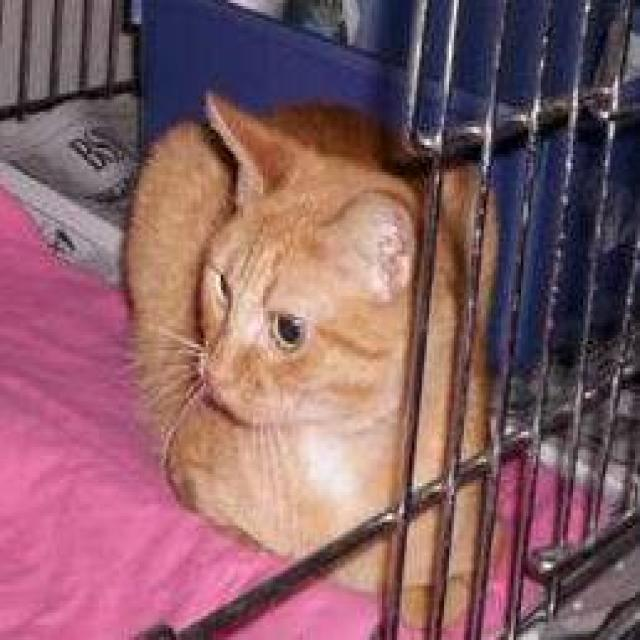cat: (119, 84, 638, 631)
